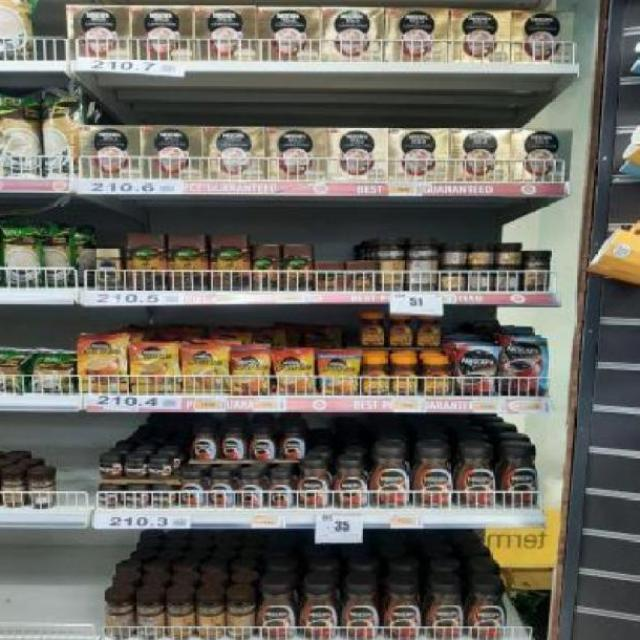Coffee: (78, 333, 127, 391), (371, 445, 412, 509), (502, 338, 548, 395), (457, 445, 498, 506), (500, 445, 539, 505), (132, 343, 179, 392), (417, 446, 454, 506), (256, 585, 297, 639), (300, 583, 339, 639), (426, 583, 465, 639), (469, 583, 507, 640), (184, 345, 229, 393), (453, 345, 498, 393), (384, 583, 423, 637), (343, 584, 379, 639), (333, 458, 370, 508), (318, 350, 361, 393), (272, 349, 314, 392), (231, 346, 269, 391), (298, 460, 332, 507), (220, 424, 249, 462), (360, 357, 390, 393), (390, 358, 419, 395), (250, 424, 279, 461), (178, 468, 207, 505), (422, 359, 452, 394), (357, 311, 386, 347), (386, 312, 415, 348), (192, 423, 221, 459), (95, 247, 121, 287), (280, 425, 308, 461), (415, 313, 444, 347), (209, 470, 236, 506), (238, 472, 265, 508), (268, 471, 293, 506), (150, 483, 176, 506), (151, 455, 175, 479), (126, 484, 150, 507), (100, 454, 123, 476), (98, 485, 121, 507), (126, 457, 147, 478)
